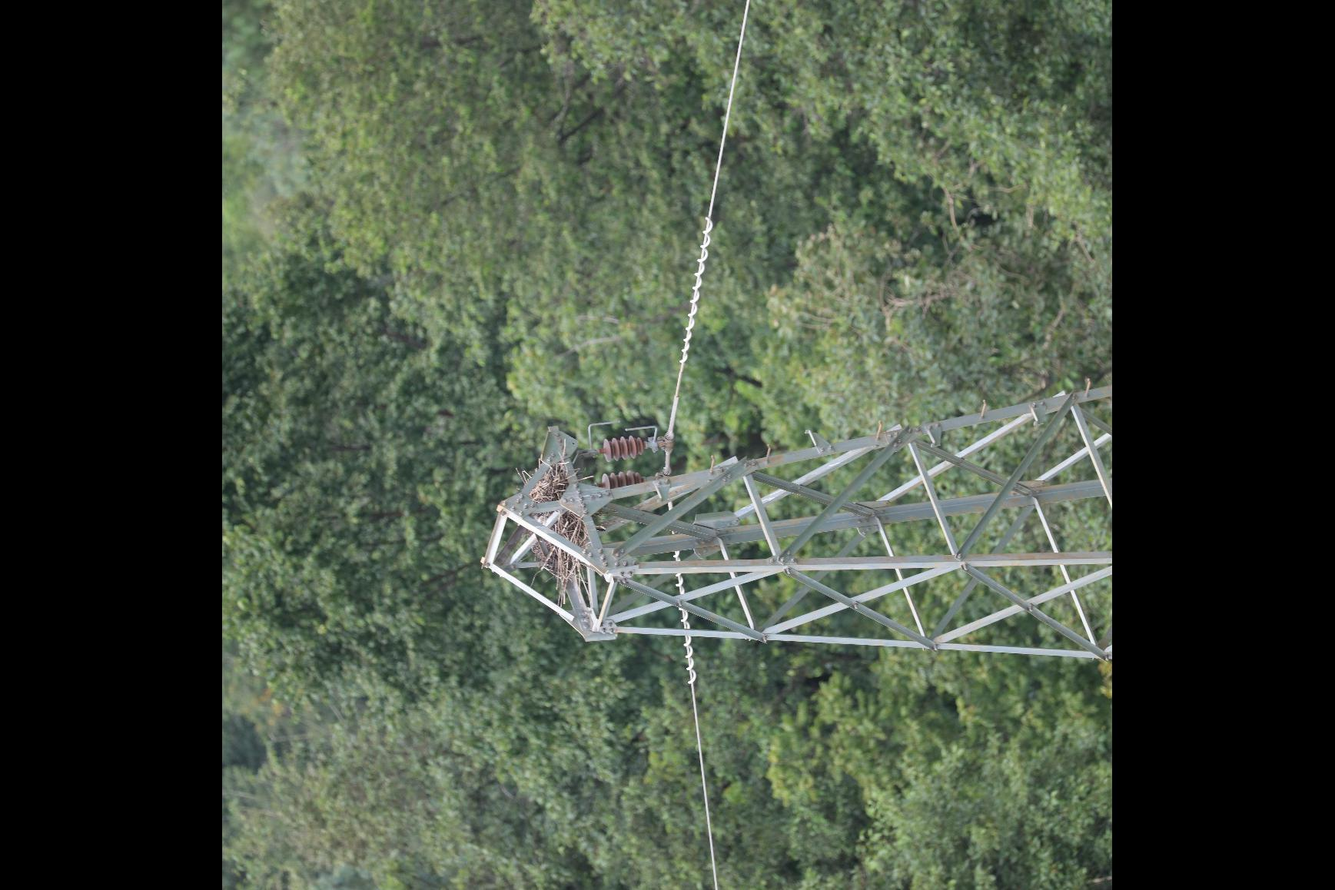nest: (516, 456, 589, 606)
